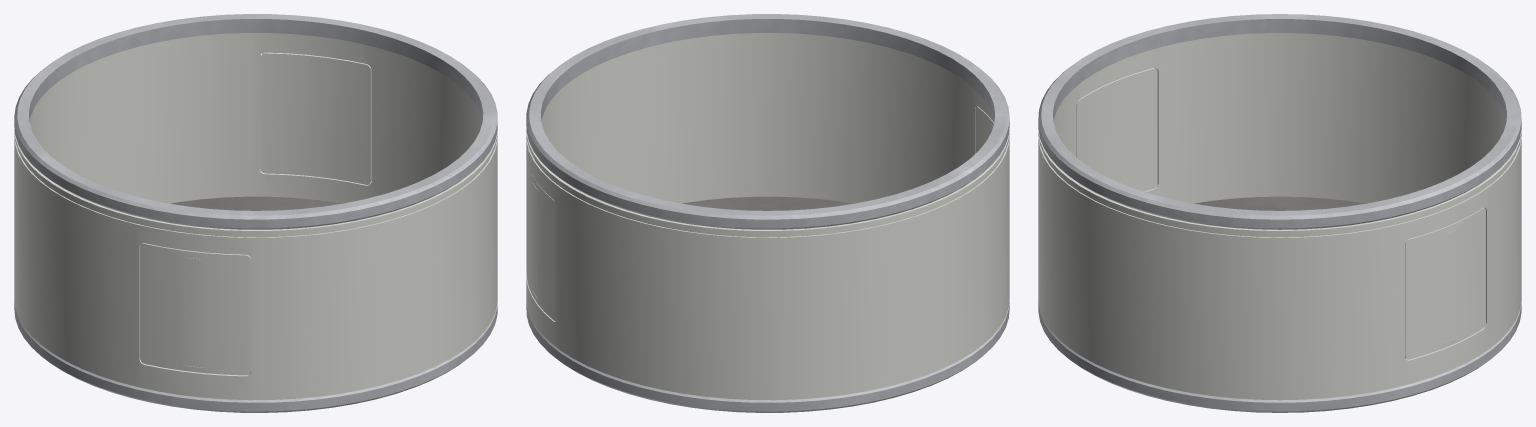
The model's file is ax_struct_12_service_bay_xl.glb.
3 renders of one model, left to right at view 1: azimuth 30°, elevation 25°; view 2: azimuth 150°, elevation 25°; view 3: azimuth 270°, elevation 25°, orthographic.
Parts seen in each view (by area): view 1: bay_barrel, interface_rings, door_1, door_2, slot_deck; view 2: bay_barrel, interface_rings, door_1, slot_deck, door_2; view 3: bay_barrel, interface_rings, door_1, door_2, slot_deck.
Boxes of the visible parts, bbox=[...] form: bay_barrel: bbox=[14, 33, 497, 400]; interface_rings: bbox=[14, 14, 497, 412]; door_1: bbox=[260, 52, 371, 184]; door_2: bbox=[140, 243, 251, 375]; slot_deck: bbox=[140, 196, 341, 373]; bay_barrel: bbox=[526, 33, 1009, 400]; interface_rings: bbox=[526, 14, 1009, 412]; door_1: bbox=[526, 159, 556, 320]; slot_deck: bbox=[682, 196, 853, 210]; door_2: bbox=[975, 106, 994, 153]; bay_barrel: bbox=[1038, 33, 1521, 400]; interface_rings: bbox=[1038, 14, 1521, 412]; door_1: bbox=[1405, 207, 1485, 359]; door_2: bbox=[1076, 68, 1157, 191]; slot_deck: bbox=[1194, 196, 1365, 210].
Bounding box in the file's own units: 5 × 2.25 × 5.
Materials: 3 (2 with a texture image).
